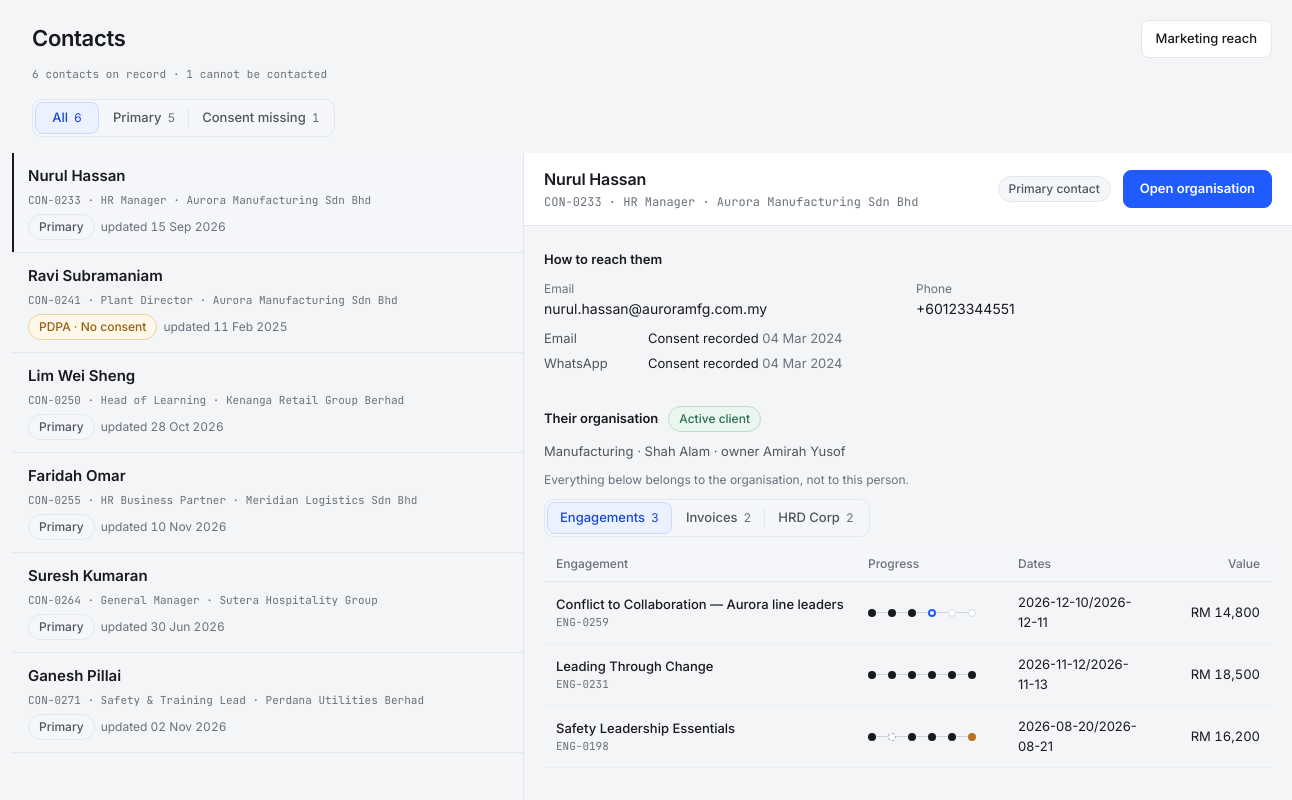
it: Sales › Contacts › reads the consent refusal off the log, channel by channel
The width and height of the screenshot is (1292, 800).
Click the text "Ravi Subramaniam": (95, 276) left=28, top=265, right=163, bottom=288
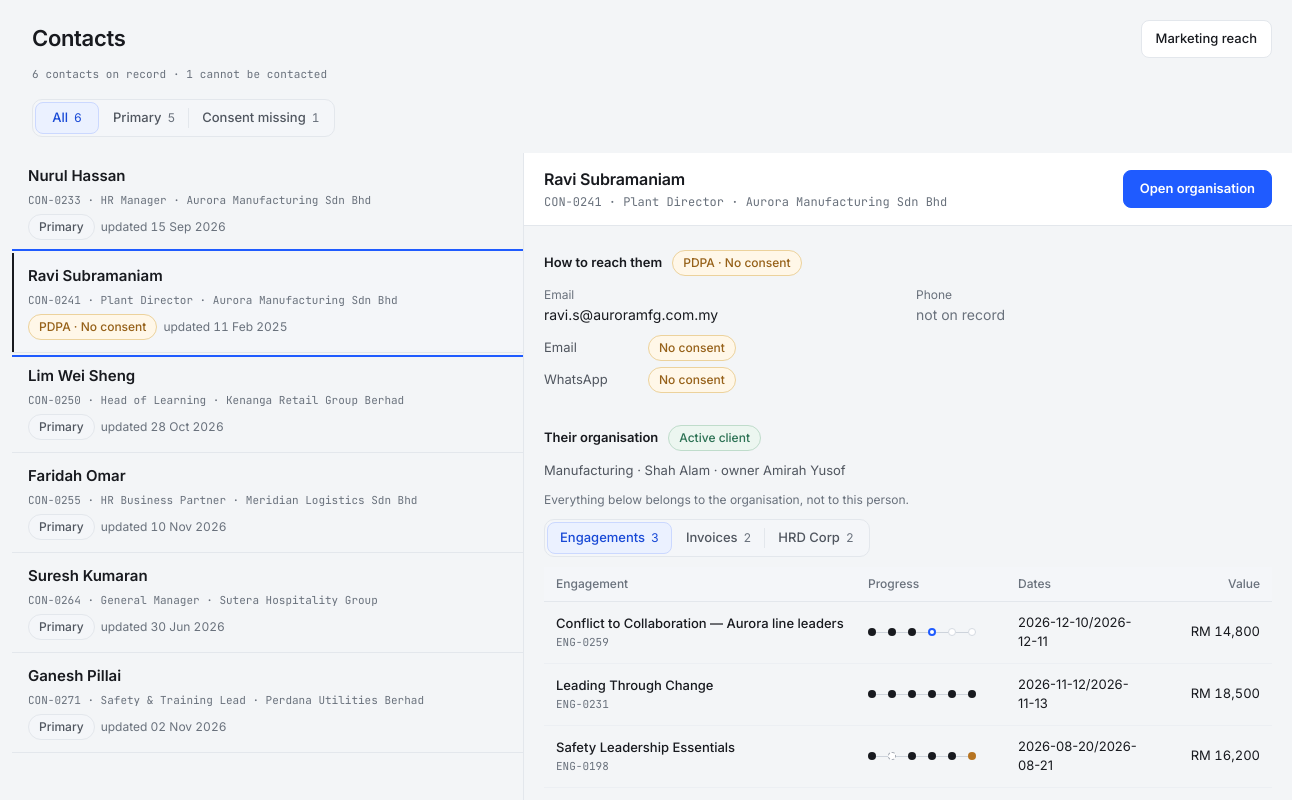
Expected: the text "No consent" is shown 2 times, left=648, top=335, right=736, bottom=361; left=648, top=367, right=736, bottom=393
Expected: the text "PDPA · No consent" next to "How to reach them" is shown, left=683, top=255, right=791, bottom=270
Expected: the text "not on record" is shown, left=916, top=306, right=1005, bottom=323
